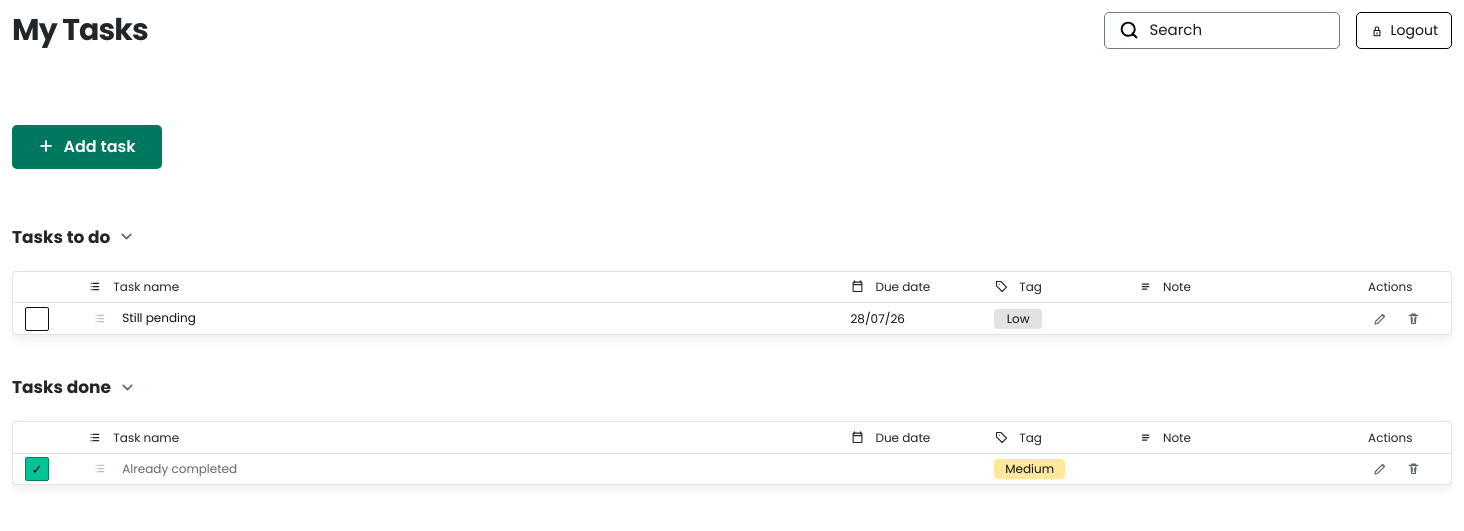
Test case: TaskBoard › uses the search term as a GraphQL task filter
In the search field named "Search tasks": (1237, 31) x1=1150 y1=19 x2=1324 y2=42, type "pending"
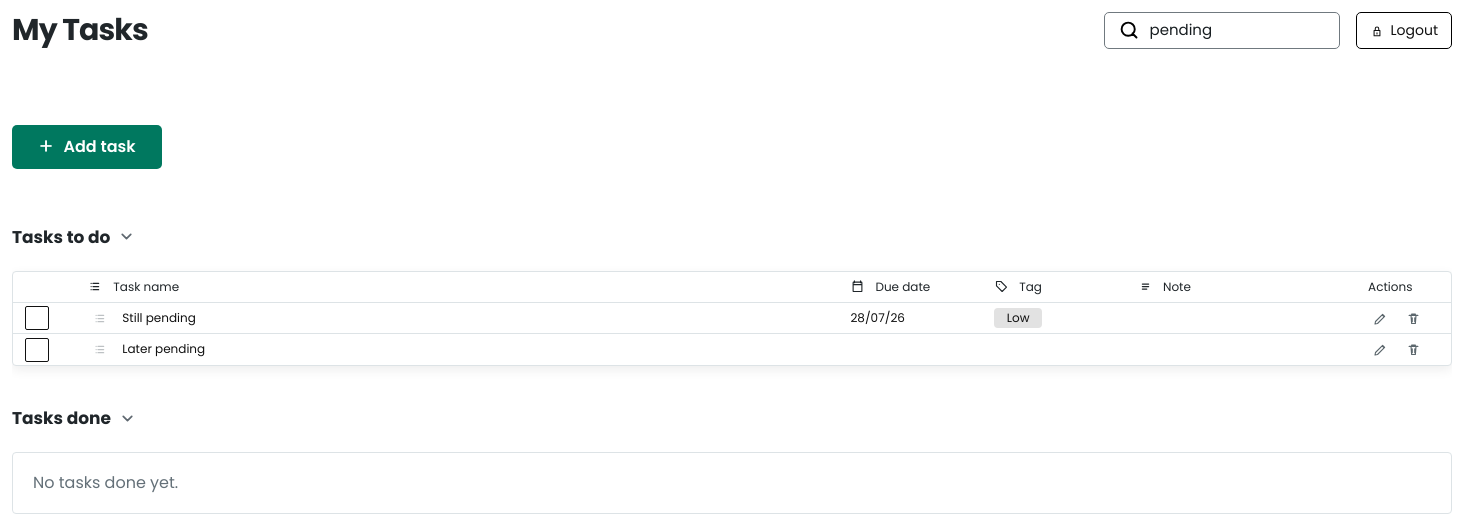
Expected: the button named "Reorder task: Still pending" is disabled, x1=88 y1=306 x2=112 y2=330
Result: the text "Already completed" is gone
